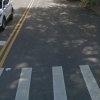Crosswalk: (6, 61, 99, 100)
